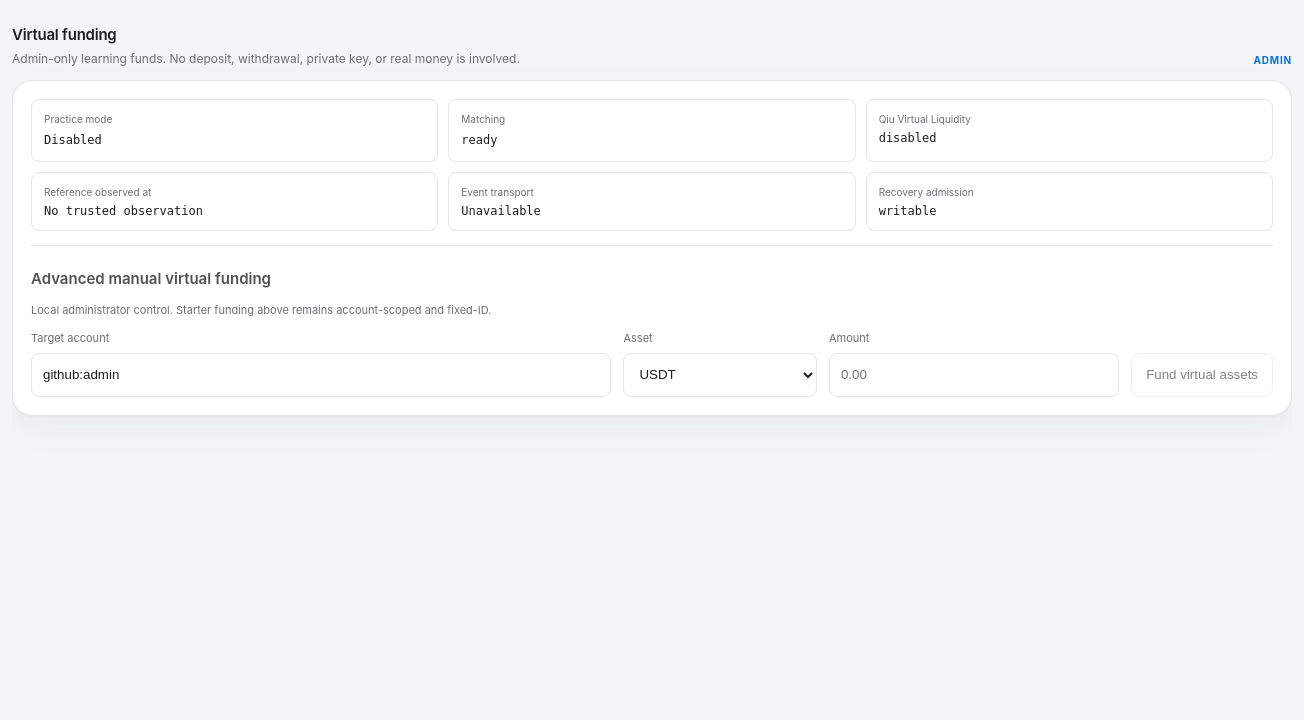
System virtual funding control › re-reads the shared journal before funding and never overwrites a Trade claim
In the field named "amount": (974, 374) [829,352,1119,396], type "100"
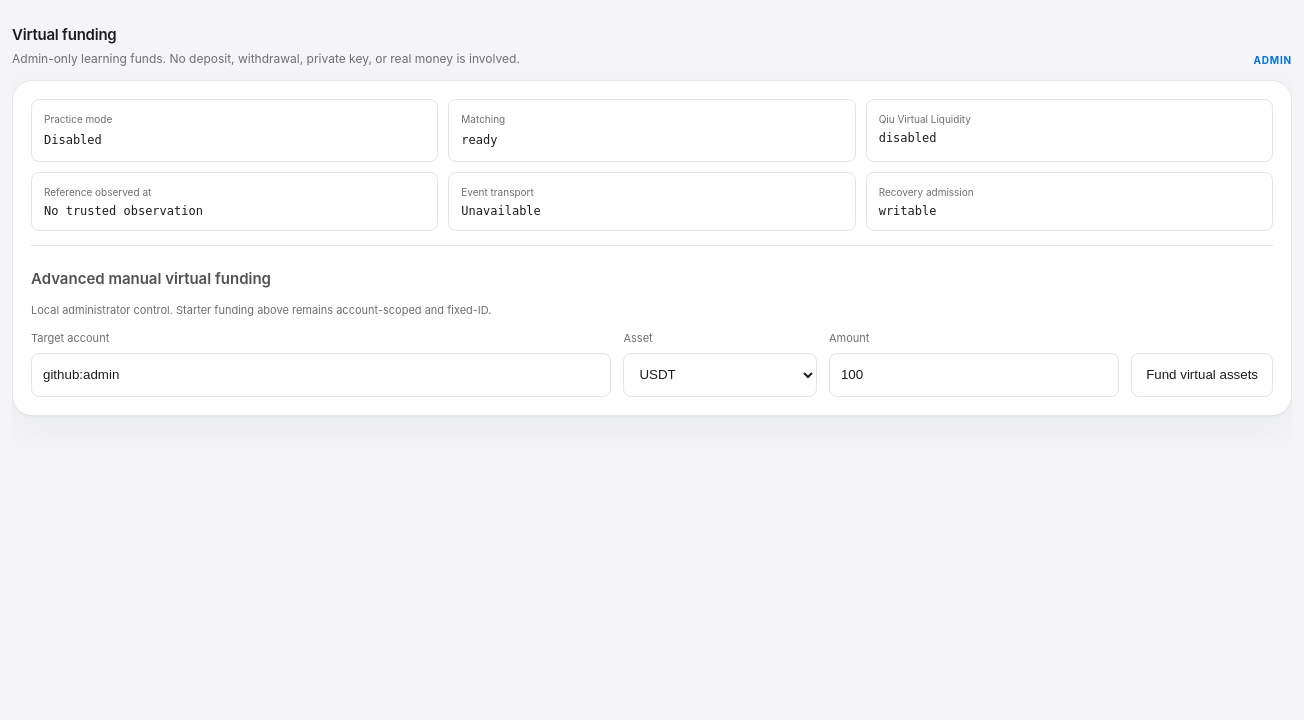
Result: the button with test id "funding-submit" is enabled
Click the button with test id "funding-submit": (1202, 374) [1131,352,1273,396]
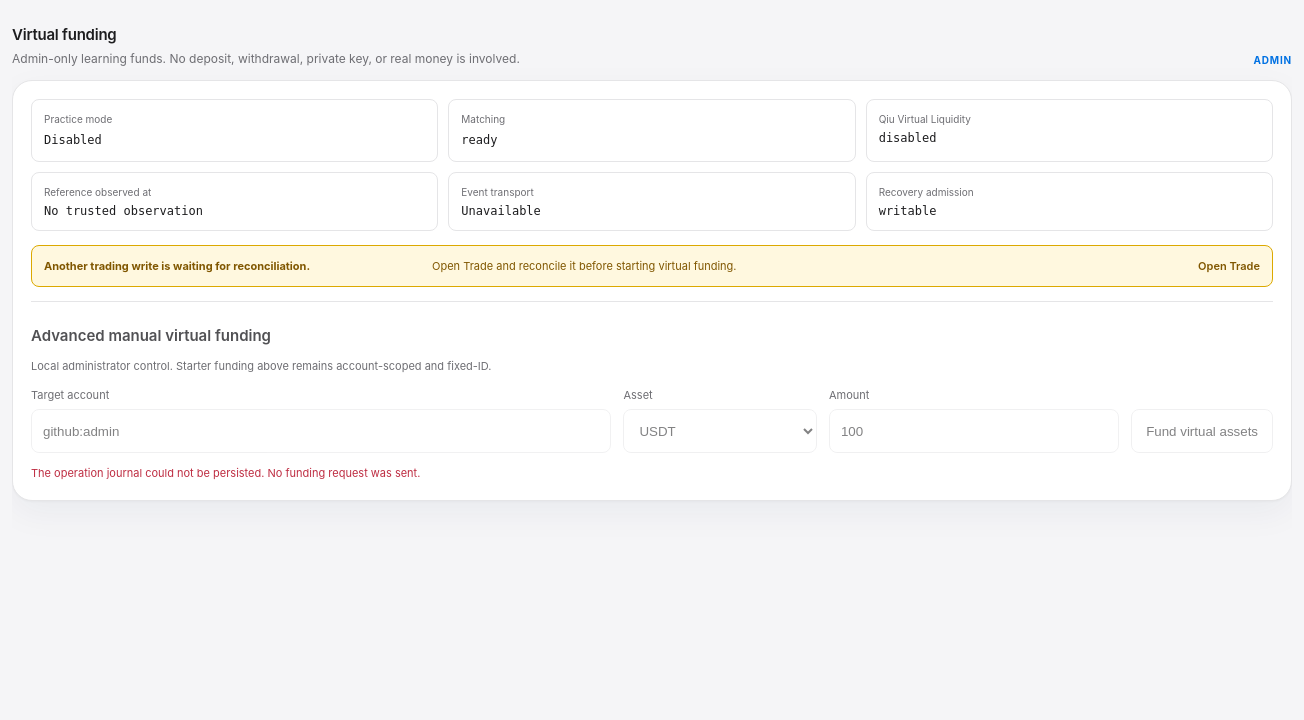
Result: the text "Open Trade" is shown at [432,258,736,272]
